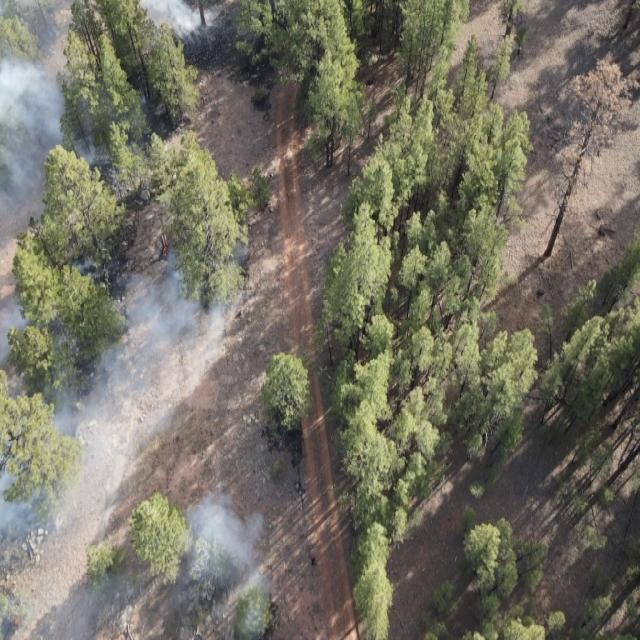fire: (157, 235, 174, 263), (11, 613, 22, 628)
smoke: (0, 225, 254, 379), (0, 377, 204, 546), (0, 0, 83, 212), (182, 494, 282, 640), (0, 567, 144, 639), (84, 89, 153, 180), (128, 0, 227, 40)
